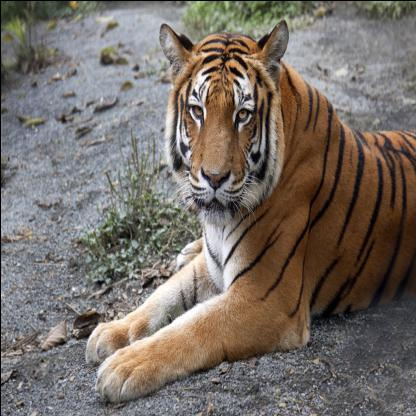tiger: (154, 19, 292, 225)
